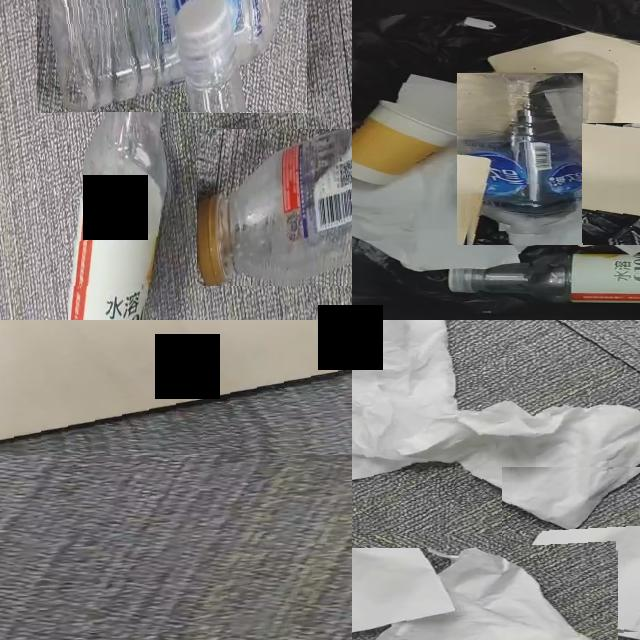bottle: (69, 0, 175, 320), (46, 0, 297, 112), (197, 129, 352, 286), (461, 74, 582, 245), (448, 253, 640, 304)
carton: (0, 320, 352, 442), (488, 33, 640, 153), (555, 123, 640, 217)
dixie_cup: (352, 102, 458, 185)
paper: (352, 320, 640, 522), (502, 467, 640, 633), (352, 148, 518, 272), (378, 549, 592, 640), (393, 75, 473, 136), (612, 239, 640, 256)
